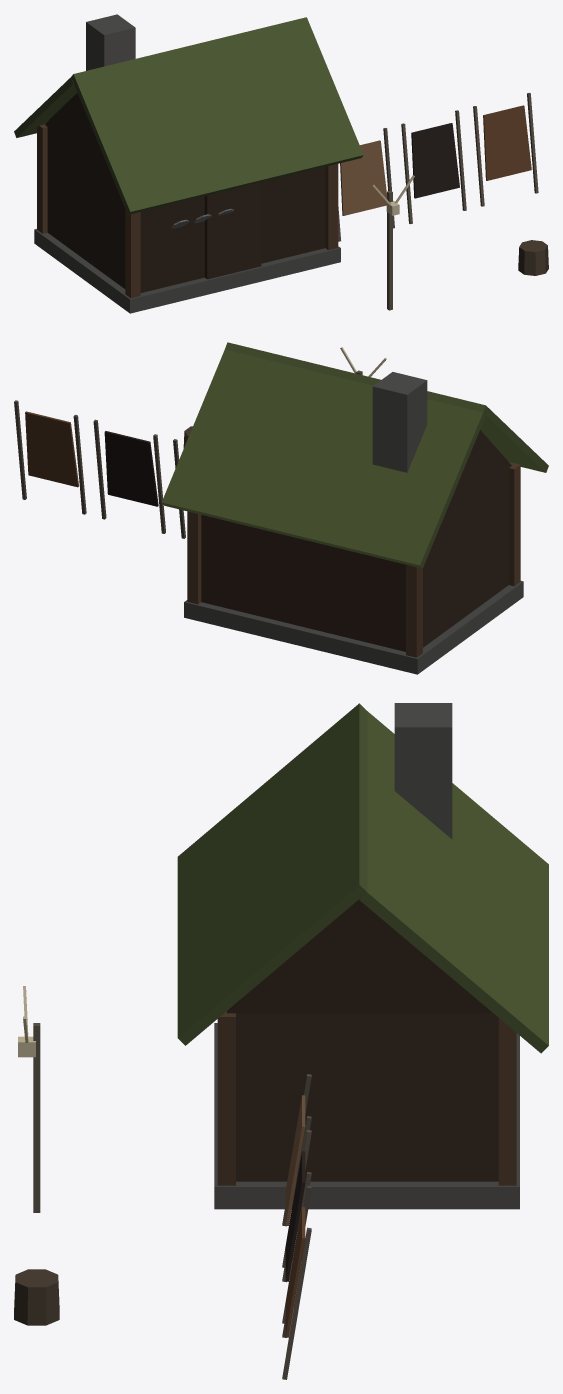
File: walk_rime_trapper.glb
The picture shows the model from 3 angles, top to bottom: view 1: azimuth 30°, elevation 25°; view 2: azimuth 150°, elevation 25°; view 3: azimuth 270°, elevation 25°; orthographic projection. The views are drawn at different scales.
Parts seen in each view (by area): view 1: walk_rime_trapper, walk_rime_trapper_roof; view 2: walk_rime_trapper, walk_rime_trapper_roof; view 3: walk_rime_trapper, walk_rime_trapper_roof.
Boxes of the visible parts, left/top/right/bottom form: walk_rime_trapper: left=34, top=92, right=548, bottom=313; walk_rime_trapper_roof: left=14, top=14, right=363, bottom=214; walk_rime_trapper: left=14, top=347, right=523, bottom=674; walk_rime_trapper_roof: left=161, top=342, right=548, bottom=568; walk_rime_trapper: left=14, top=899, right=519, bottom=1379; walk_rime_trapper_roof: left=177, top=703, right=548, bottom=1053.
Size of what is drawn, in the model's own units: 9.83 by 4.99 by 6.48.
2 materials, 2 textured.
